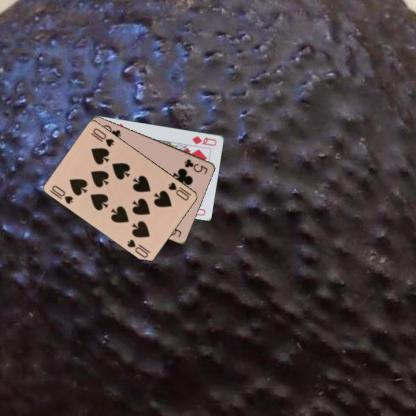10s: (50, 182, 74, 206), (166, 180, 192, 202)
5c: (182, 156, 209, 175)
Qd: (189, 133, 218, 147)
